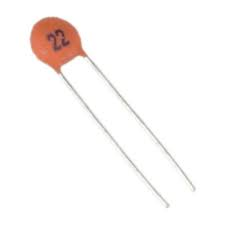ceramic capacitor: (18, 2, 99, 91)
